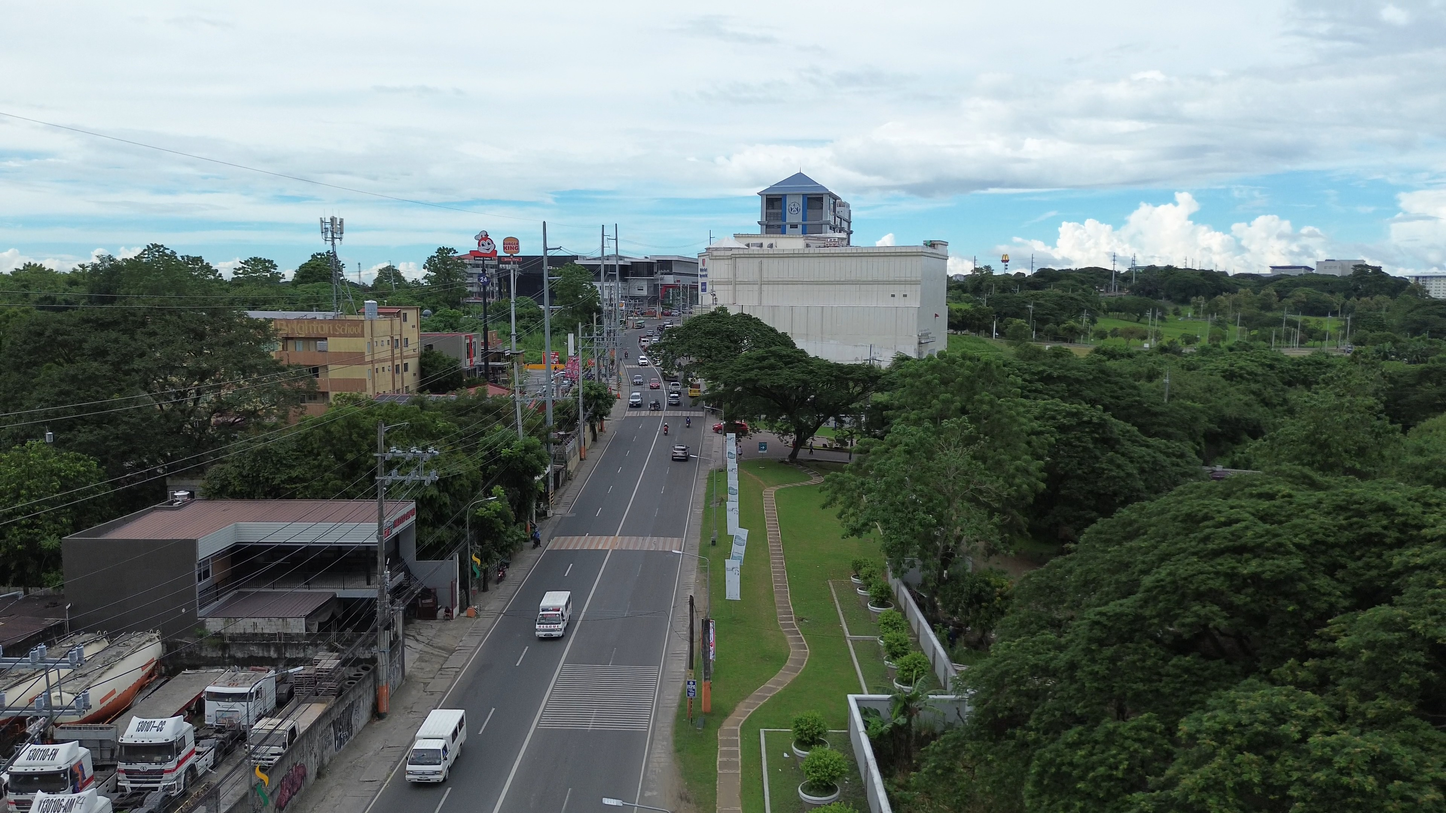car: (726, 421, 750, 435), (668, 381, 681, 391), (648, 380, 660, 389)
motorcycle: (662, 423, 668, 435), (685, 417, 690, 428)
vehicle: (52, 669, 223, 766), (0, 632, 163, 723), (117, 716, 216, 796), (8, 742, 95, 811), (247, 703, 326, 768), (205, 667, 276, 729), (406, 709, 466, 782), (29, 789, 113, 813), (535, 591, 572, 638), (712, 420, 750, 435), (671, 445, 689, 461), (628, 391, 643, 408), (688, 379, 701, 397), (667, 392, 680, 405), (631, 374, 644, 386), (649, 399, 662, 411), (638, 355, 650, 366), (668, 380, 680, 391), (662, 422, 668, 436)
